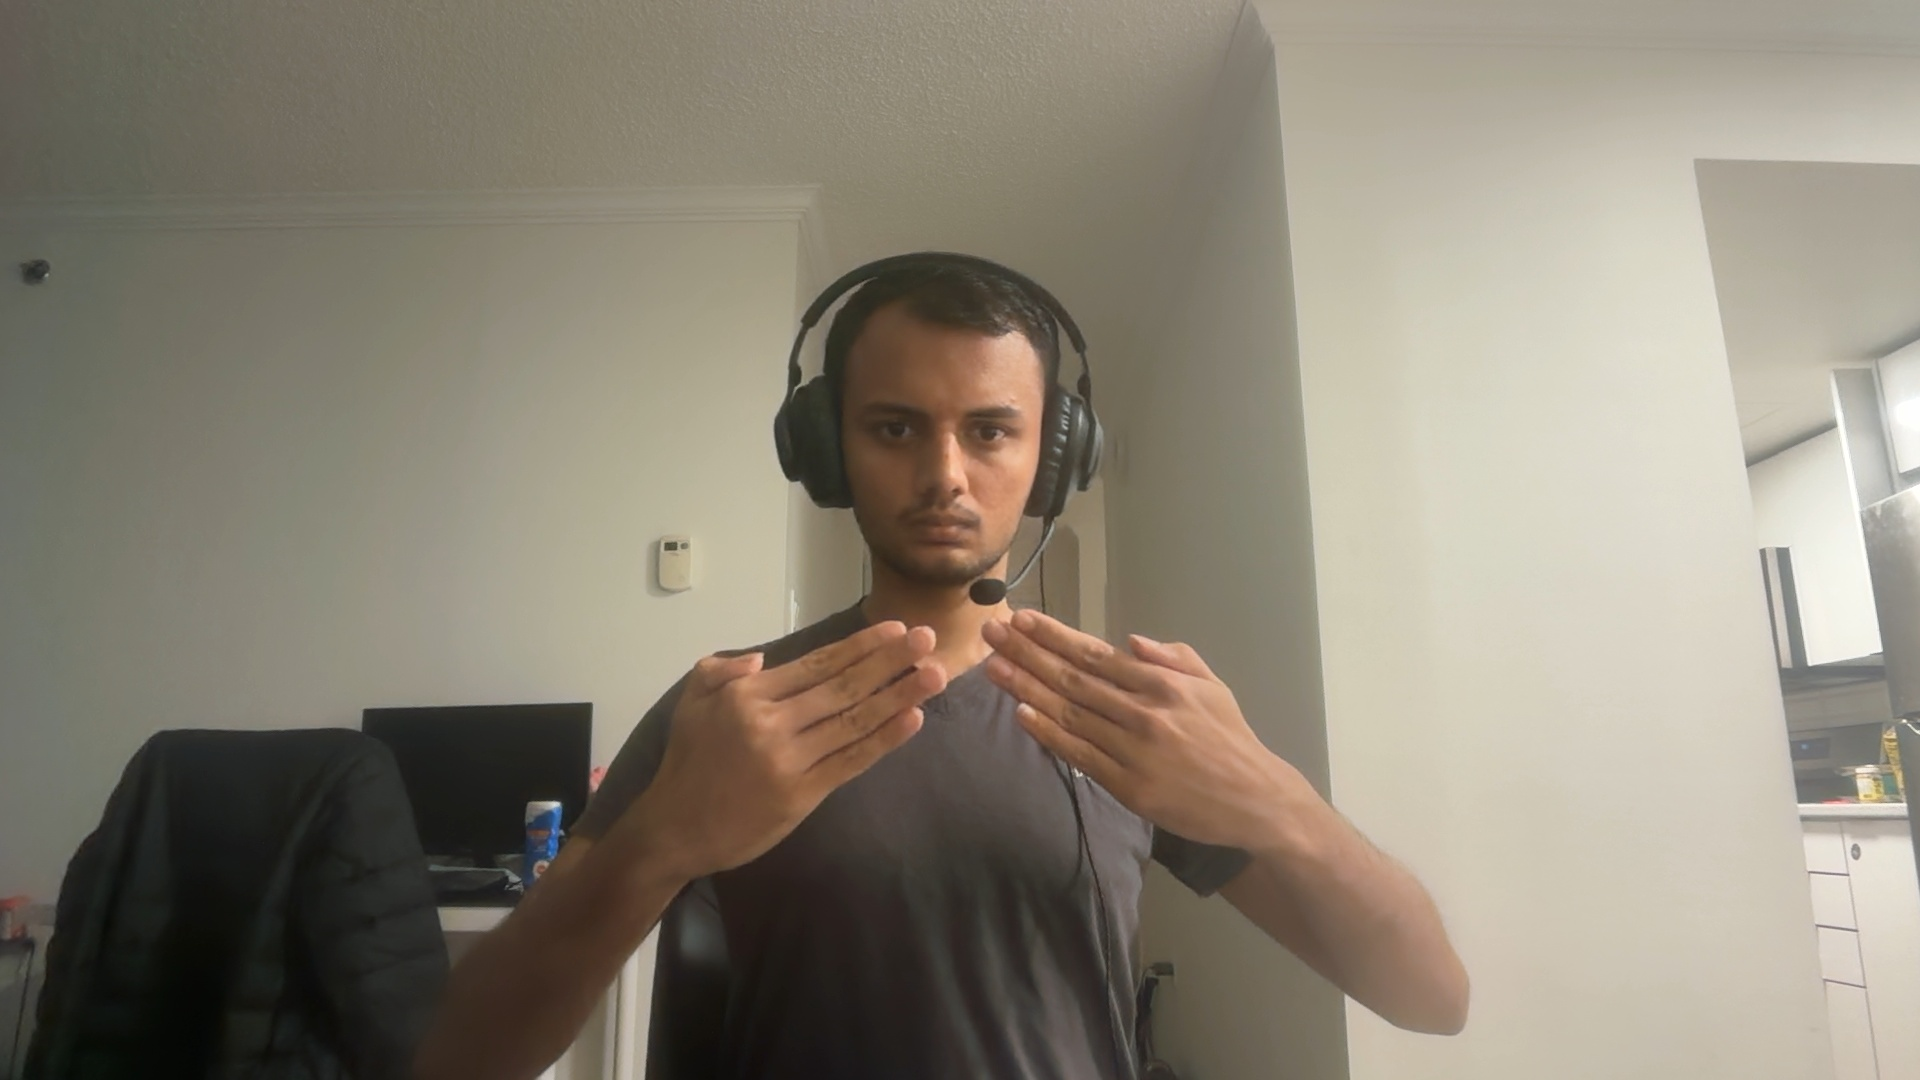thankyou: (663, 608, 1296, 884)
